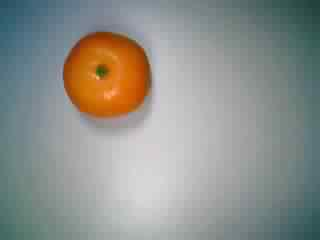orange: (59, 24, 154, 126)
